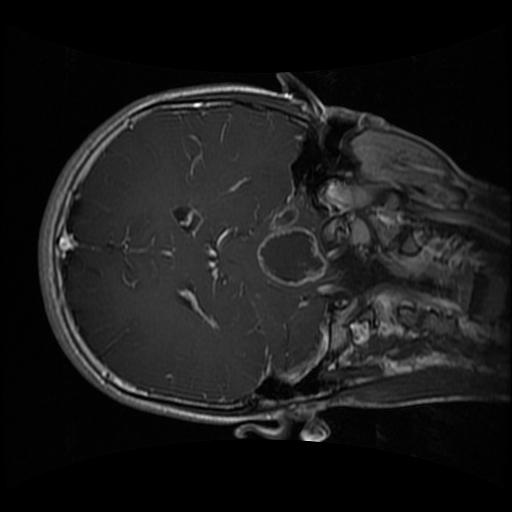glioma: (251, 205, 327, 285)
